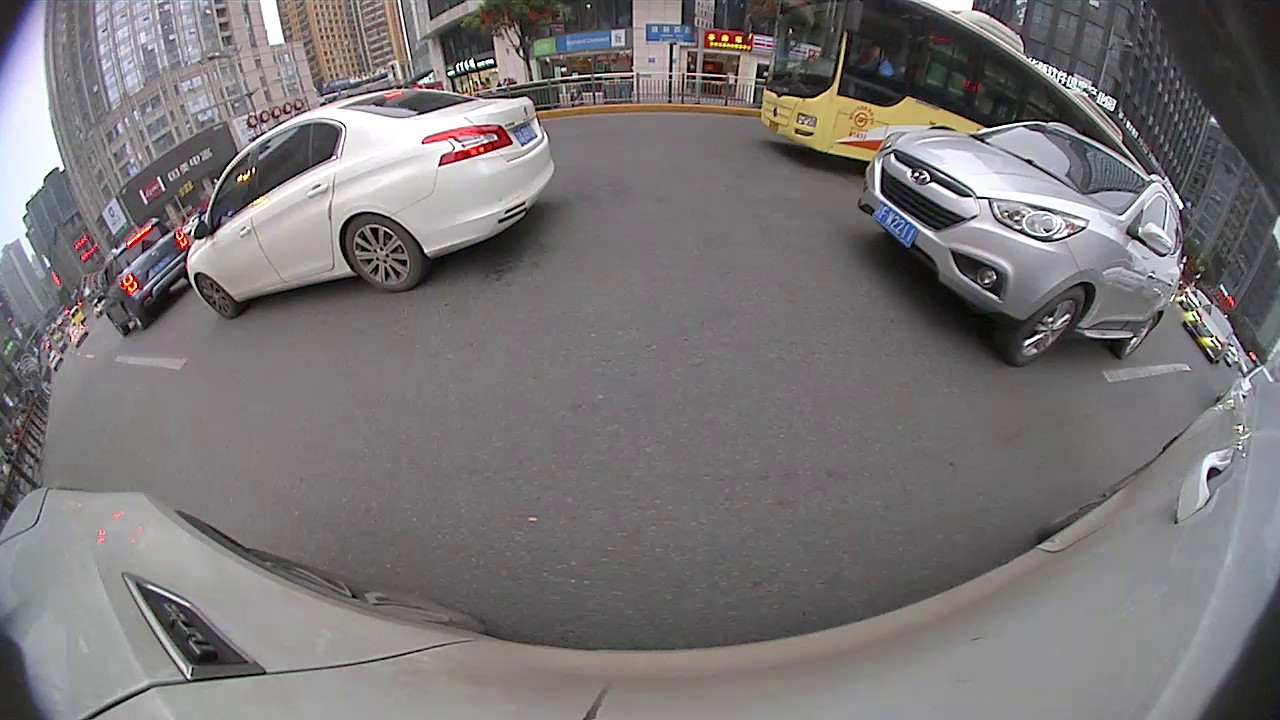bus: (757, 1, 1152, 178)
car: (183, 84, 558, 321), (853, 118, 1189, 369), (93, 220, 195, 336)
front: (1005, 286, 1084, 369), (196, 272, 240, 322)
rear: (342, 213, 426, 291), (1113, 312, 1160, 361)
